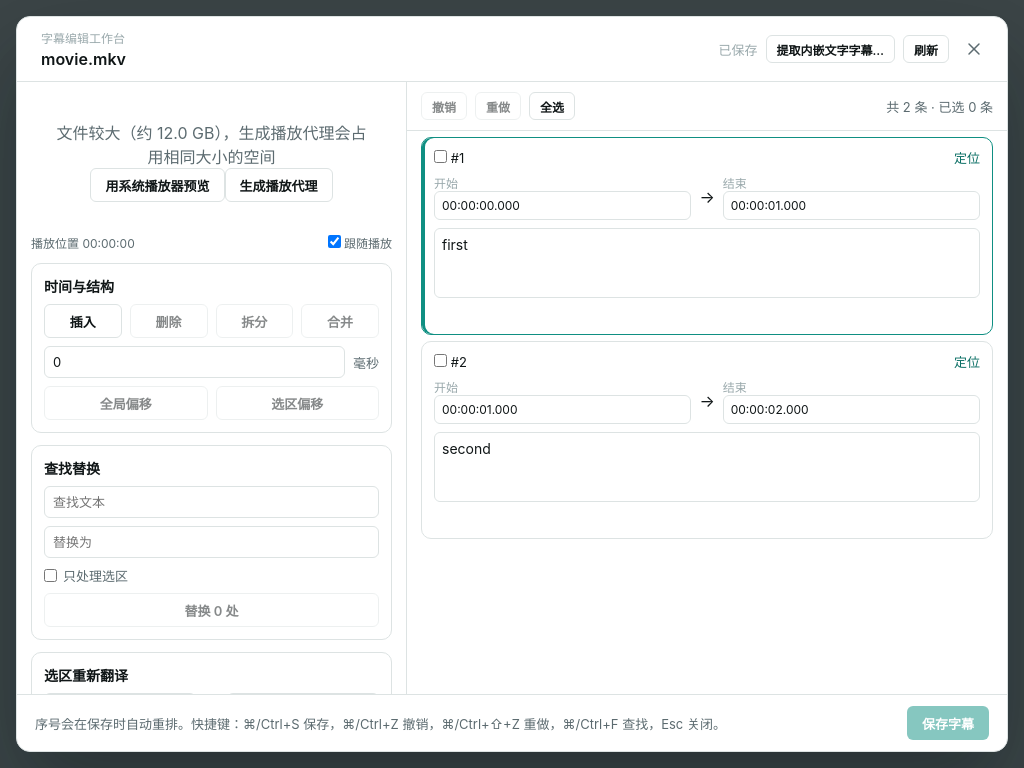
SubtitleWorkbench 不能直放时的播放代理（2026-10-13） › proxy-manual：不自动请求，手动「生成播放代理」走 CreatePlaybackProxy
Click the button with test id "workbench-proxy-generate" at (278, 185), box [224, 168, 332, 202]
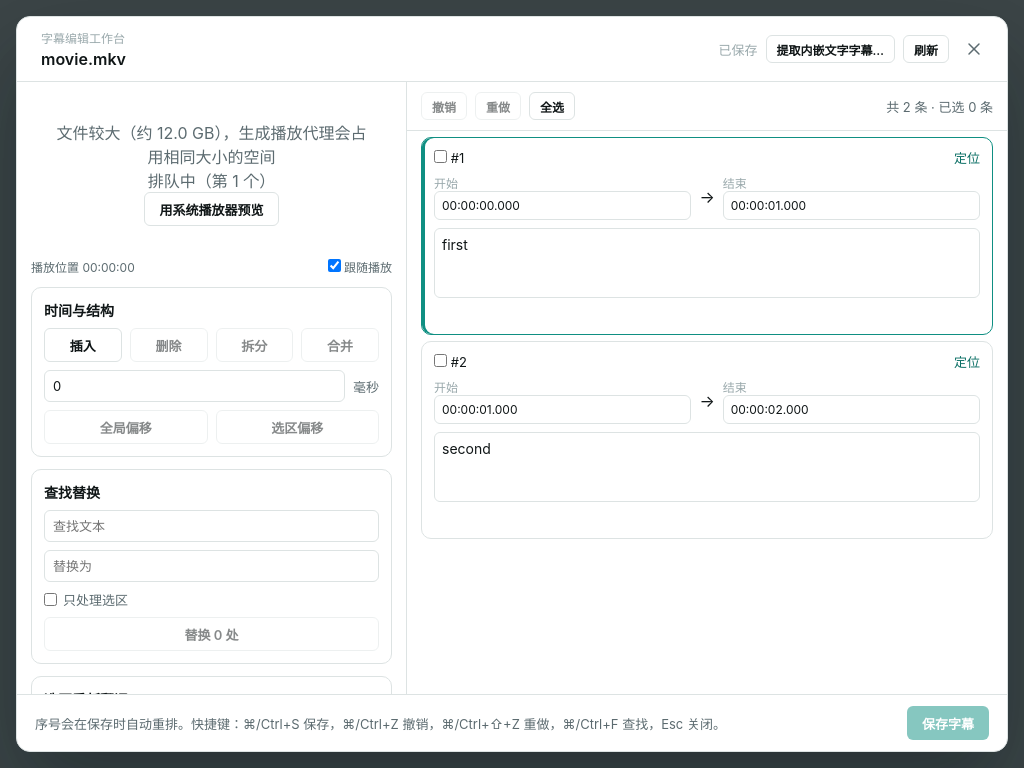
Now the message with test id "workbench-proxy-status" reads "排队中（第 1 个）", box [148, 171, 275, 191]
